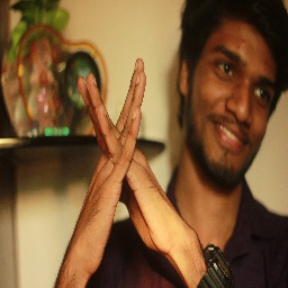W: (70, 55, 181, 258)
